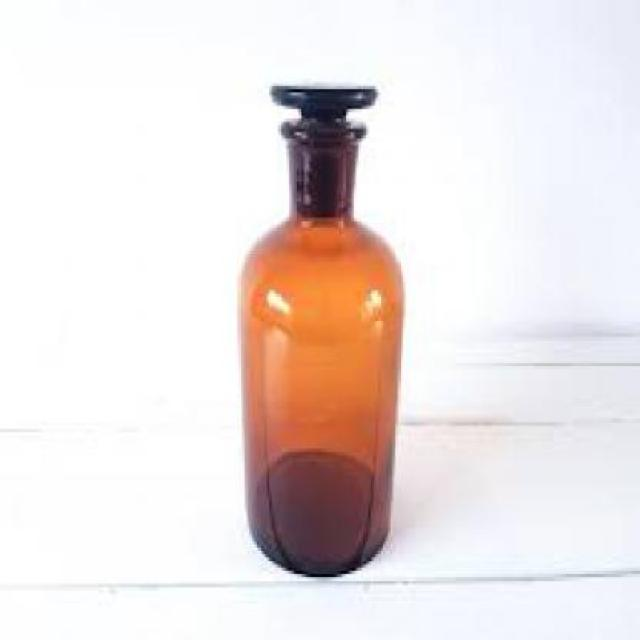kaca: (235, 83, 400, 574)
